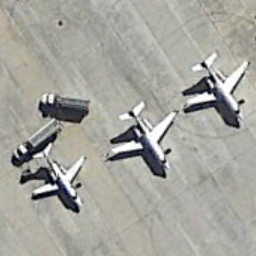Airplane: (178, 45, 256, 142), (104, 98, 185, 182), (13, 139, 93, 218)
